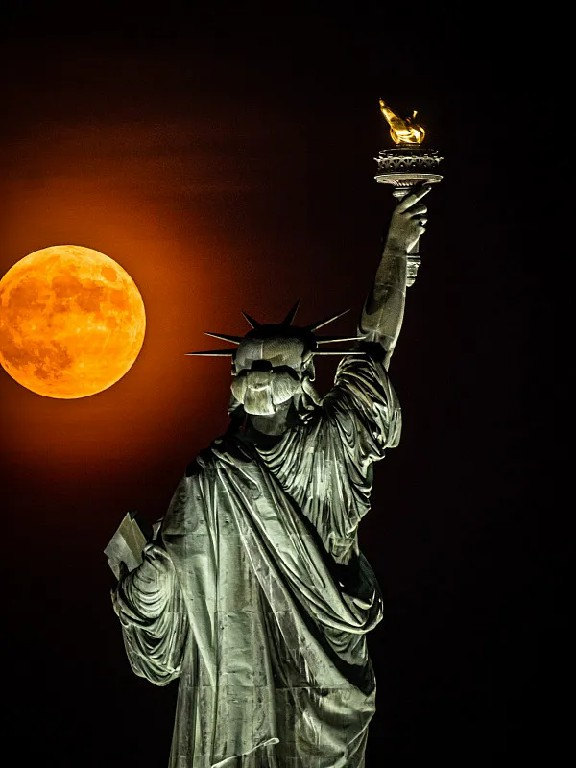SL: (102, 94, 444, 768)
